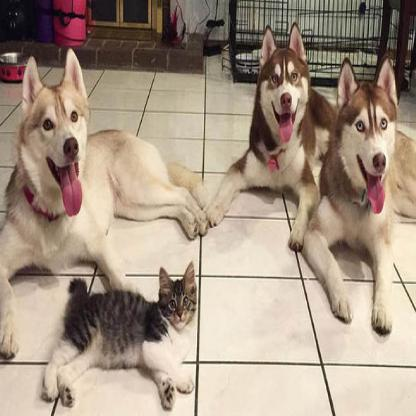cat: (42, 252, 199, 412)
dog: (1, 42, 208, 282), (302, 51, 415, 337), (210, 21, 327, 249)
